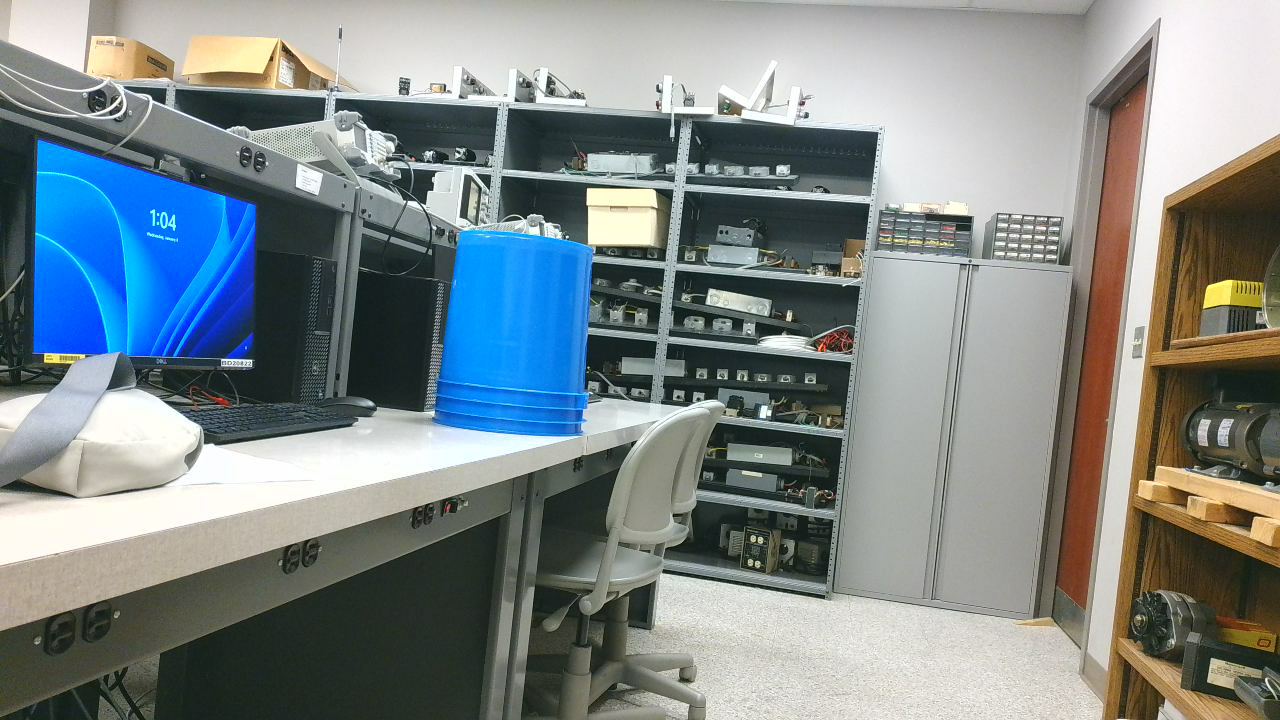blue_bucket: (429, 232, 603, 445)
